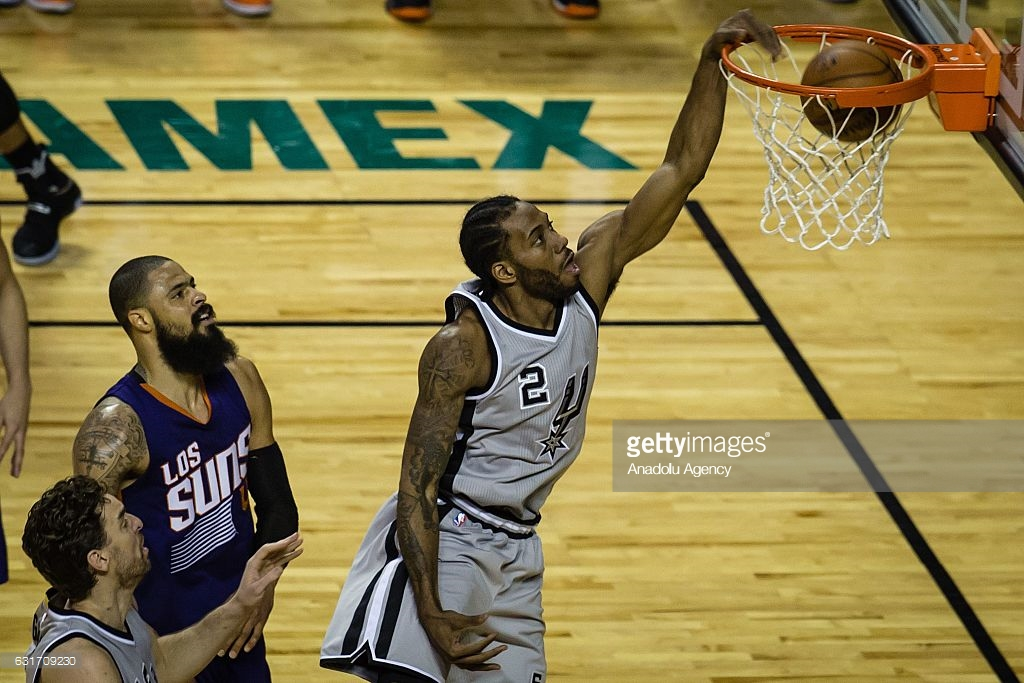basketball: (798, 40, 911, 145)
basketball player: (350, 10, 776, 683), (74, 257, 292, 683), (27, 476, 155, 683)
